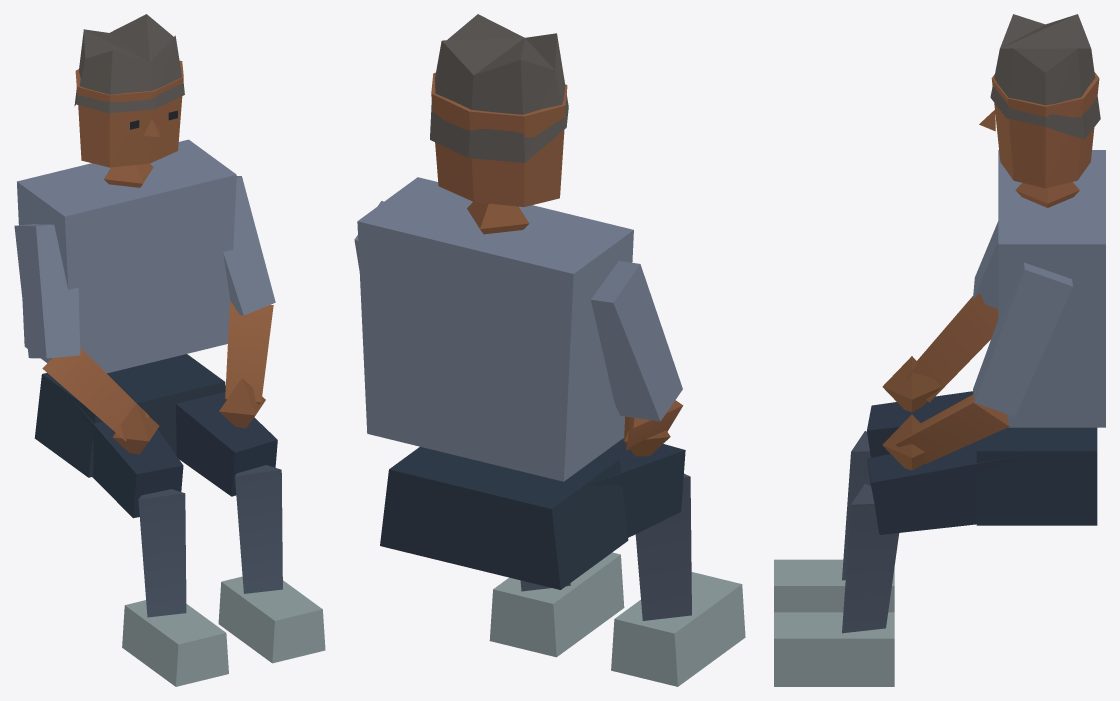
Rendered from fan-12.glb.
3 views of the same model, side by side, from view 1: azimuth 30°, elevation 25°; view 2: azimuth 150°, elevation 25°; view 3: azimuth 270°, elevation 25° (orthographic). The views are drawn at different scales.
Visible parts, largest first — view 1: fan-12; view 2: fan-12; view 3: fan-12.
Part boxes in pixels (<box>): fan-12: <box>14,14,325,686</box>; fan-12: <box>354,14,745,686</box>; fan-12: <box>774,14,1105,686</box>.
Size of the model in its own units: 0.6958 by 1.57 by 0.77.
